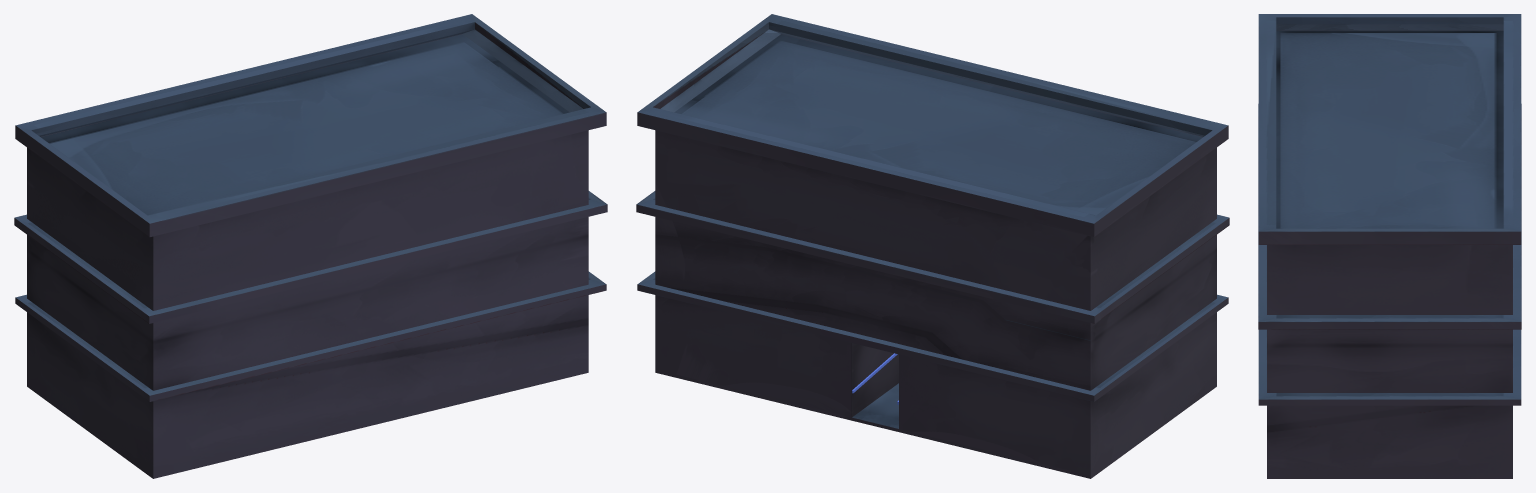
Rendered from Building1.fbx.
The picture shows the model from 3 angles, left to right: view 1: azimuth 30°, elevation 25°; view 2: azimuth 150°, elevation 25°; view 3: azimuth 270°, elevation 25°; orthographic projection. The views are drawn at different scales.
Visible parts, largest first — view 1: FinalBuilding_1; view 2: FinalBuilding_1; view 3: FinalBuilding_1.
Boxes of the visible parts, x1,y1,x2,y2 form: FinalBuilding_1: [14, 14, 607, 478]; FinalBuilding_1: [636, 14, 1229, 478]; FinalBuilding_1: [1258, 14, 1521, 478].
Bounding box in the file's own units: 17.87 × 9.69 × 9.11.
